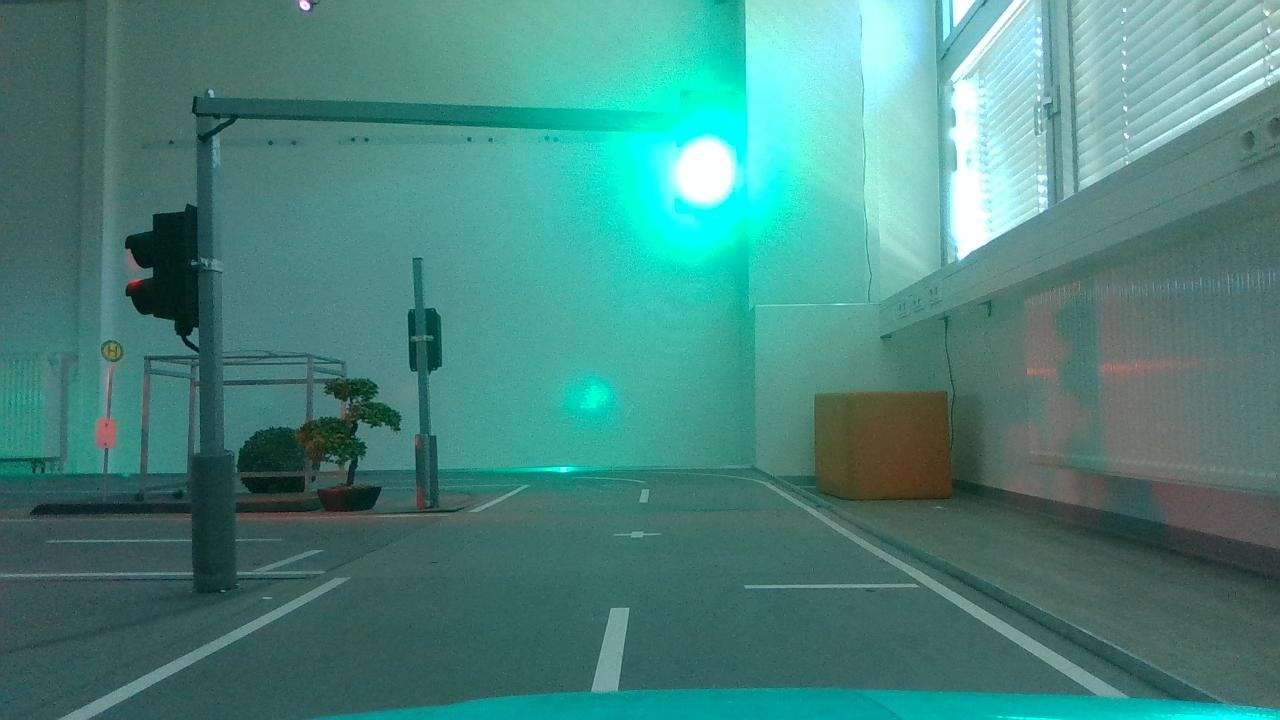traffic_light_green: (644, 66, 758, 247)
